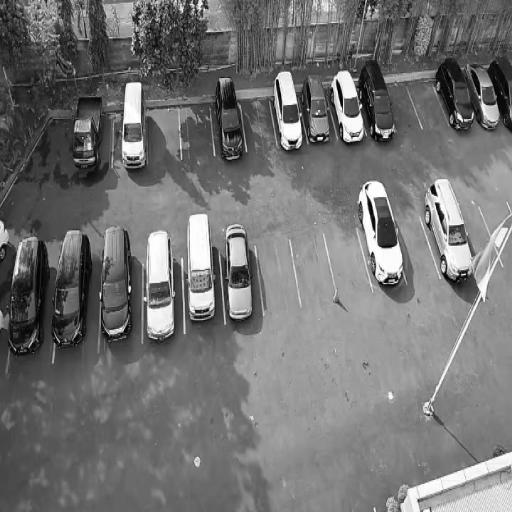Car: (416, 172, 480, 288), (351, 176, 408, 297), (49, 224, 94, 352), (7, 232, 51, 362), (140, 222, 180, 346), (180, 211, 220, 326), (352, 55, 402, 146), (430, 53, 481, 141), (98, 222, 134, 346), (322, 62, 369, 153), (207, 66, 247, 166), (266, 64, 309, 157), (221, 219, 256, 321), (460, 60, 506, 137), (296, 72, 336, 147), (68, 88, 104, 170), (118, 79, 147, 174), (484, 52, 512, 139)
Space Available: (290, 233, 339, 306), (257, 242, 300, 316), (324, 229, 371, 295), (395, 216, 439, 280), (462, 209, 503, 272), (148, 102, 183, 161), (480, 202, 512, 266), (406, 80, 447, 129), (241, 98, 278, 151), (179, 102, 214, 157), (387, 84, 422, 133)
